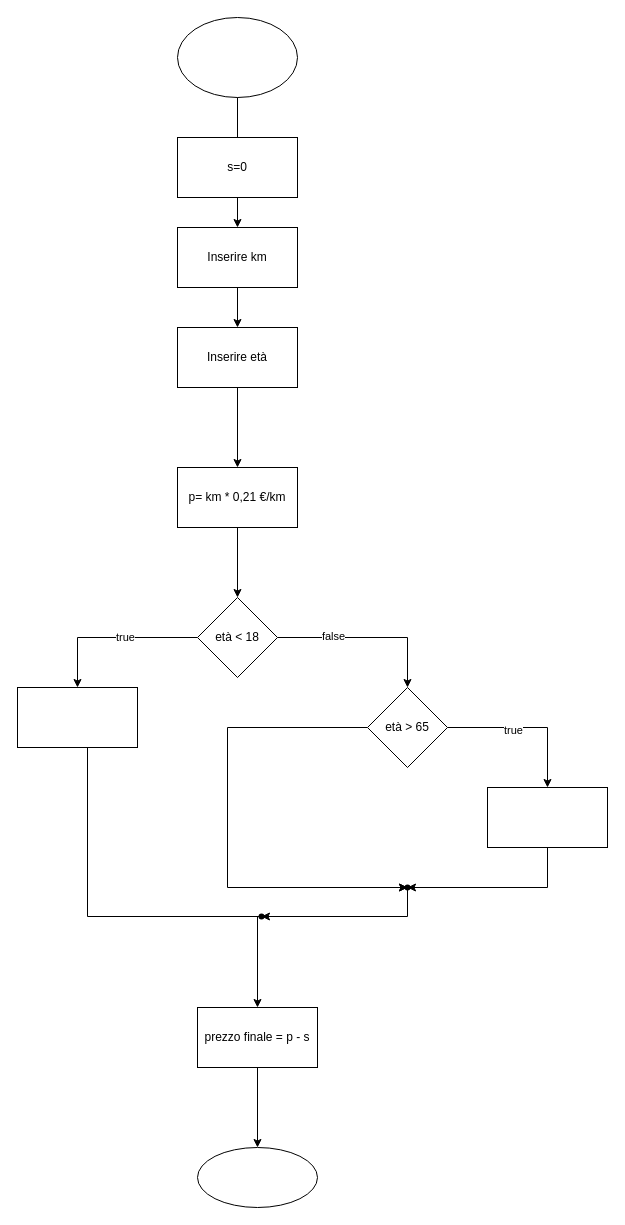
This 625x1225 diagram has some shape labels left out. Here are the shapes that lost their labels. From the top down, the centre of each, then its label:
At point (237, 57): "START".
At point (77, 717): "s=p*20/100".
At point (547, 817): "s=p*40/100".
At point (257, 1177): "END".
